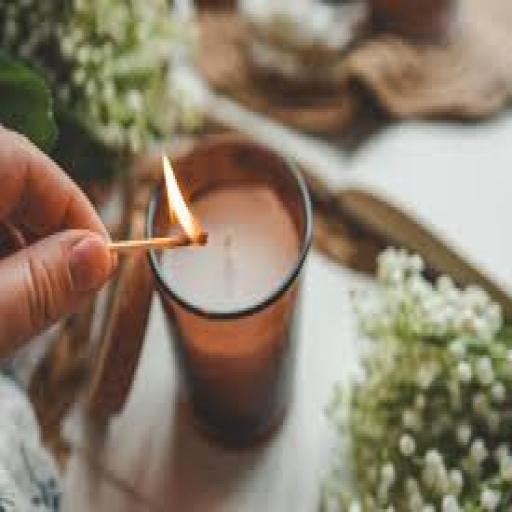fire: (117, 157, 207, 246)
